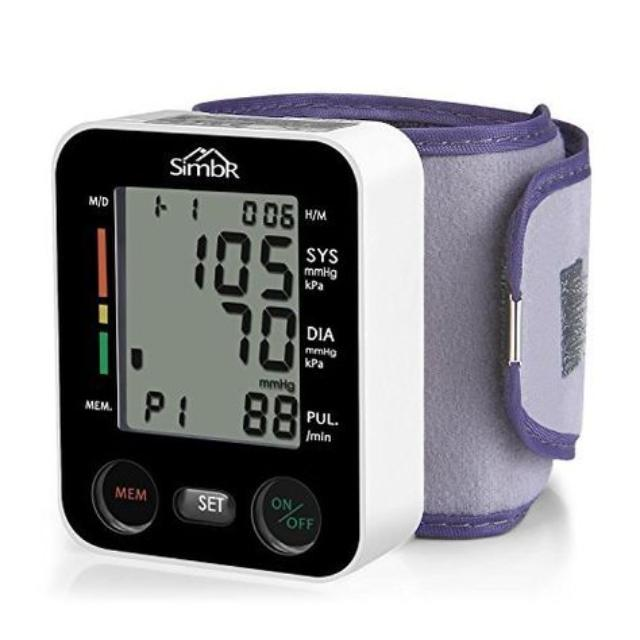Blood-Pressure-Monitor: (55, 111, 424, 576)
